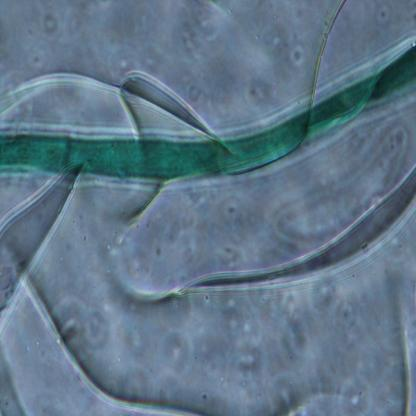Background material: (109, 167, 416, 305), (0, 269, 200, 415), (202, 289, 416, 414), (0, 58, 214, 136), (0, 171, 78, 286)
Microfibre: (0, 37, 416, 186)
